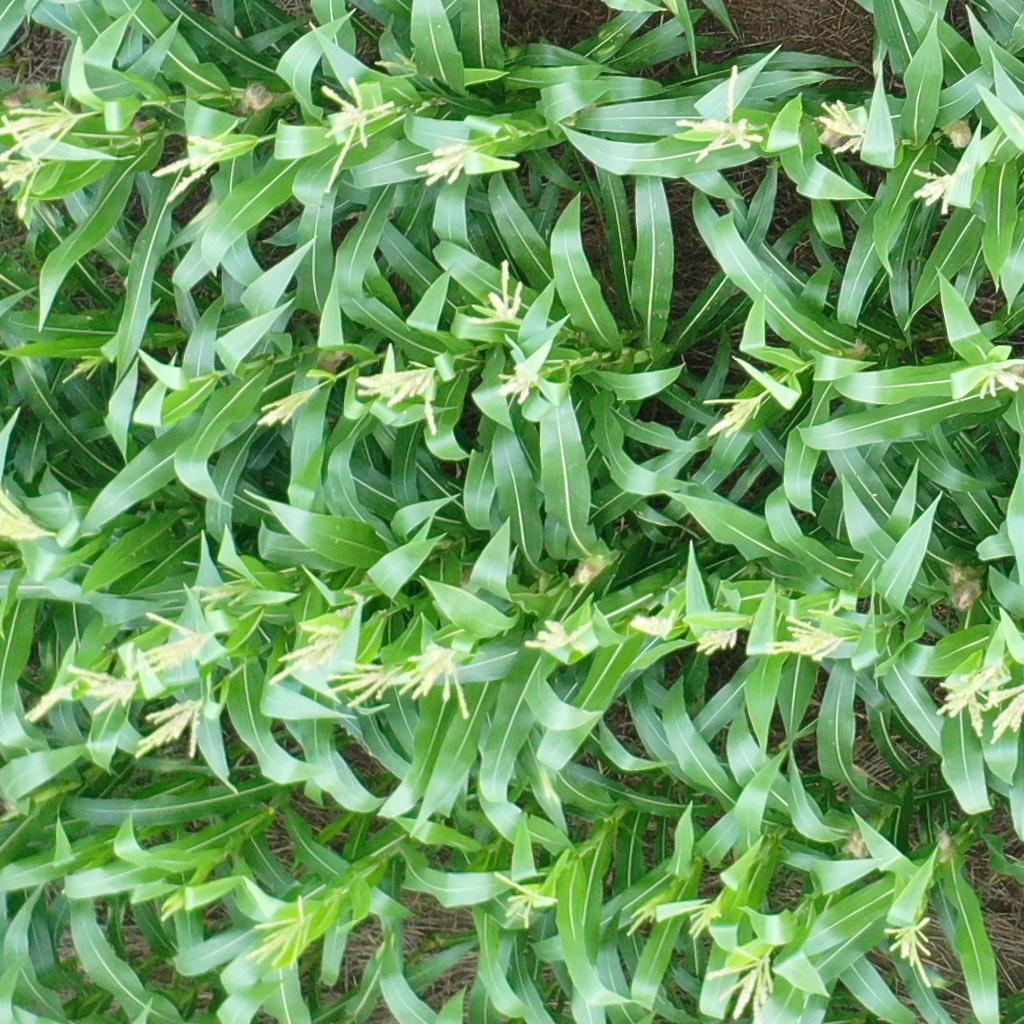Tassel: (317, 75, 398, 195), (674, 64, 765, 168), (354, 362, 447, 433), (402, 643, 480, 717), (704, 945, 780, 1020), (124, 610, 210, 676), (241, 894, 316, 969), (1, 101, 101, 157), (149, 136, 232, 200), (134, 697, 209, 763), (460, 258, 530, 327), (268, 622, 340, 688), (884, 914, 942, 990), (931, 666, 992, 738), (493, 868, 561, 932), (325, 658, 402, 710), (63, 663, 134, 715), (700, 386, 767, 441), (1, 115, 36, 219), (767, 616, 849, 660), (256, 379, 329, 428), (909, 159, 964, 218), (520, 619, 599, 660), (412, 141, 480, 188), (1, 487, 59, 541), (815, 99, 869, 157), (23, 676, 81, 724), (988, 684, 1024, 744), (977, 354, 1024, 398), (496, 362, 544, 402), (627, 606, 681, 640), (60, 352, 106, 389), (190, 580, 251, 607), (375, 49, 418, 81), (688, 903, 723, 942), (330, 586, 370, 620), (696, 627, 739, 654), (626, 907, 662, 936), (159, 893, 190, 923), (806, 596, 843, 620)
